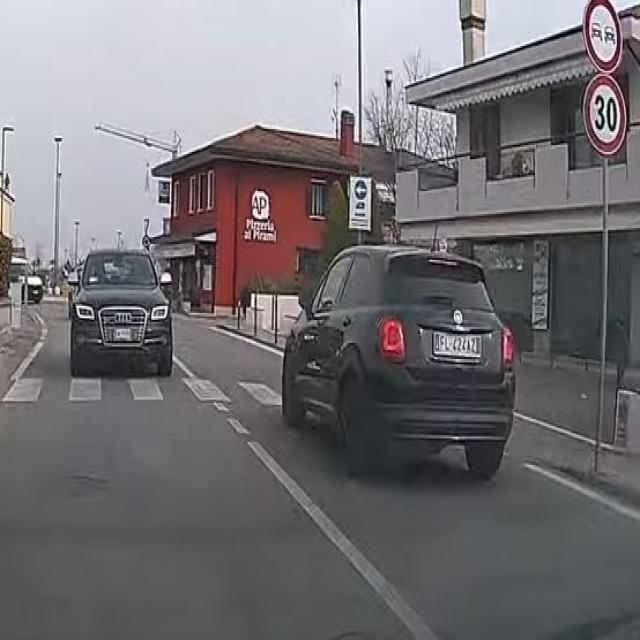Pedestrian crosswalk: (4, 367, 297, 410)
